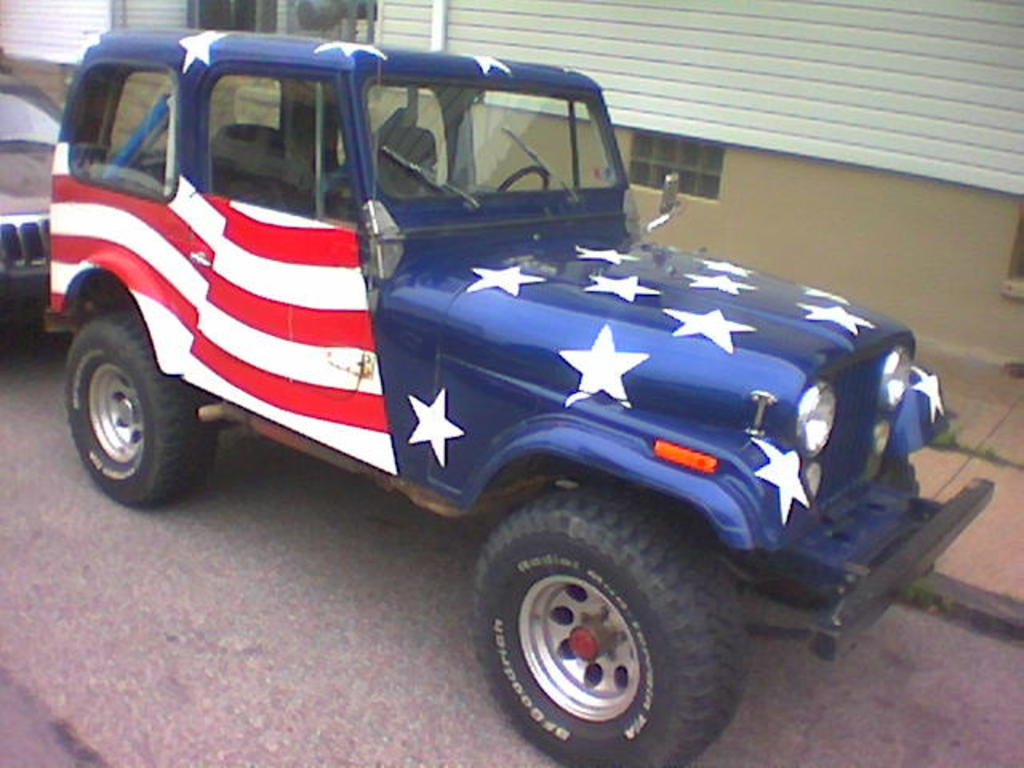Car: (0, 70, 63, 320)
